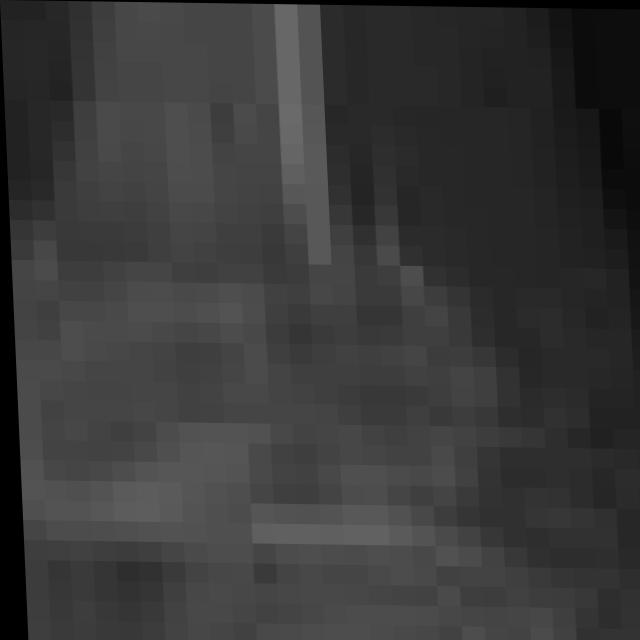fracture: (5, 4, 640, 640)
